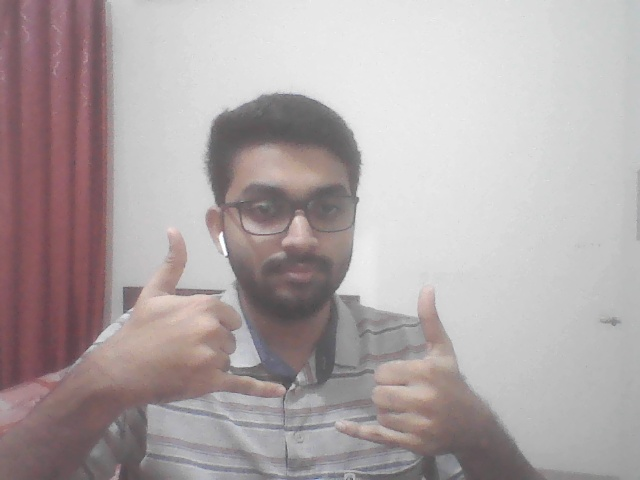play: (77, 219, 505, 457)
